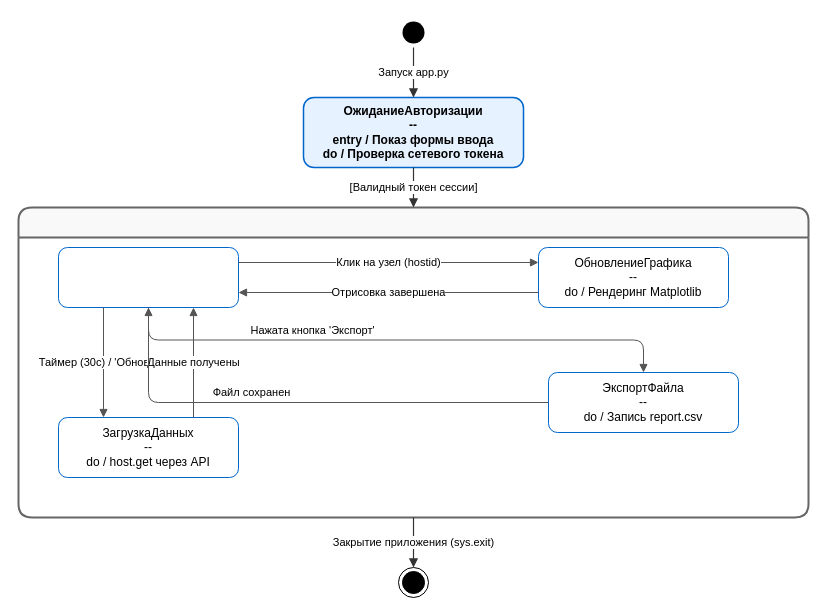
Image size: 826x615. Some labels were removed from this diagram. The shapes that lost their labels are listed below. From the top down, each one's box as (x1, y1, x2, y2) in pixels, then its label:
(58, 246, 238, 308): ОтображениеСписка -- do / Ожидание действий
(17, 206, 809, 518): ГлавноеОкноОткрыто (Рабочий режим)
